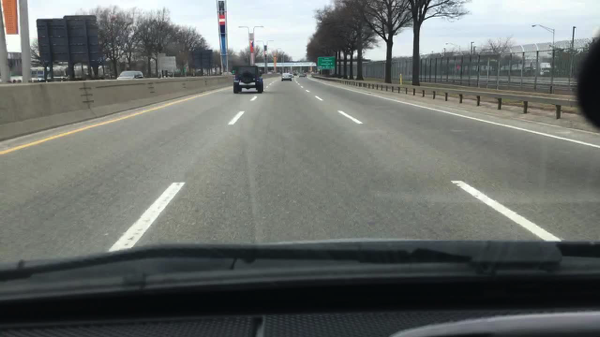bus: (29, 67, 64, 79)
car: (234, 65, 263, 95), (118, 70, 144, 79), (281, 73, 291, 81), (299, 74, 305, 79), (268, 70, 275, 74), (291, 72, 294, 78), (294, 71, 297, 75), (305, 73, 309, 74)
traffic sign: (64, 16, 98, 64), (36, 18, 67, 63), (190, 49, 212, 69), (158, 56, 175, 70), (317, 58, 335, 70)
